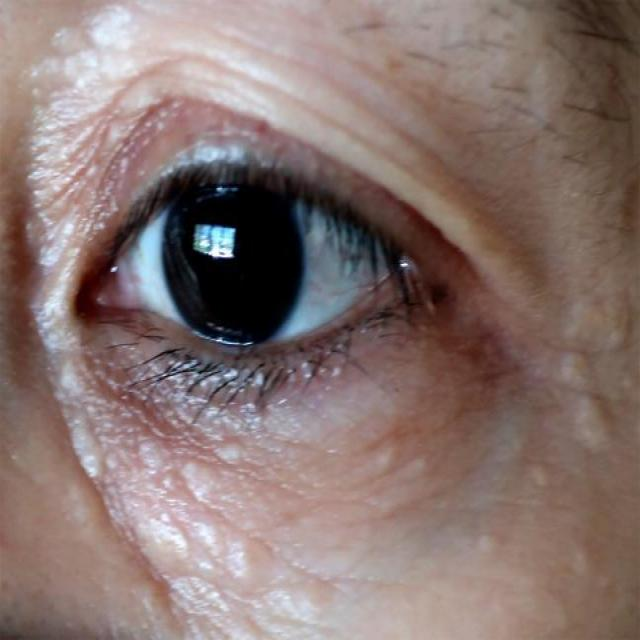blackheads: (560, 270, 635, 467), (131, 441, 269, 516), (459, 516, 510, 583), (564, 527, 602, 605), (539, 470, 550, 494)
